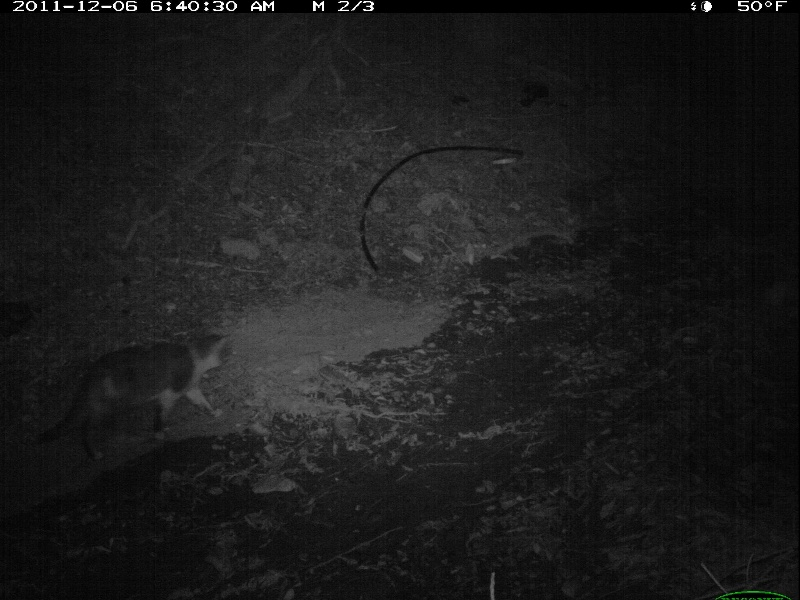cat: (34, 331, 227, 467)
